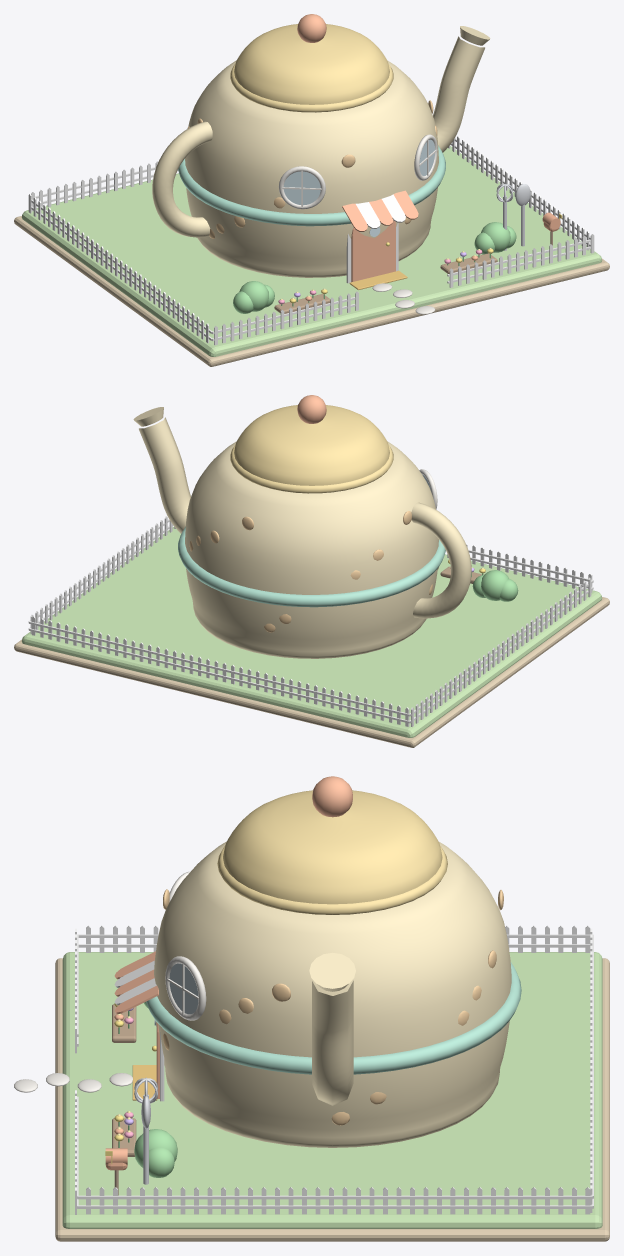
Rendered from building_kitchen_L08.glb.
3 views of the same model, one above another, from view 1: azimuth 30°, elevation 25°; view 2: azimuth 150°, elevation 25°; view 3: azimuth 270°, elevation 25° (orthographic). The views are drawn at different scales.
Visible parts, largest first — view 1: Body, kitchen_L8; view 2: Body, kitchen_L8; view 3: Body, kitchen_L8.
Part boxes in pixels (x1,y1,x2,y2): Body: (152,14,530,289); kitchen_L8: (14,136,609,366); Body: (133,395,471,658); kitchen_L8: (14,516,609,747); Body: (114,776,521,1184); kitchen_L8: (14,925,609,1241).
Bounding box in the file's own units: 26.61 × 14.72 × 24.29.
